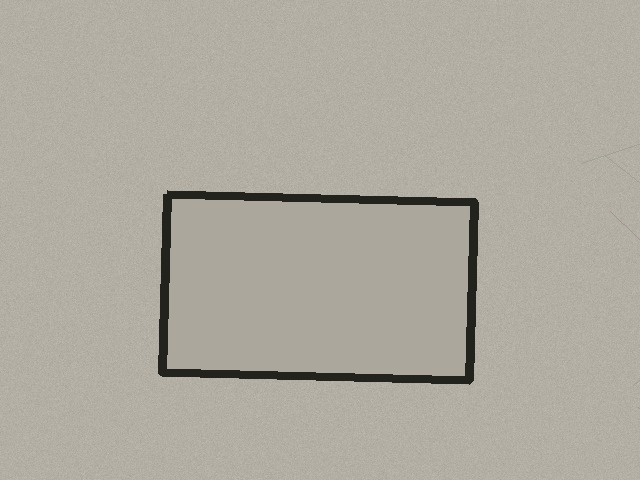parking_area: (162, 194, 474, 380)
